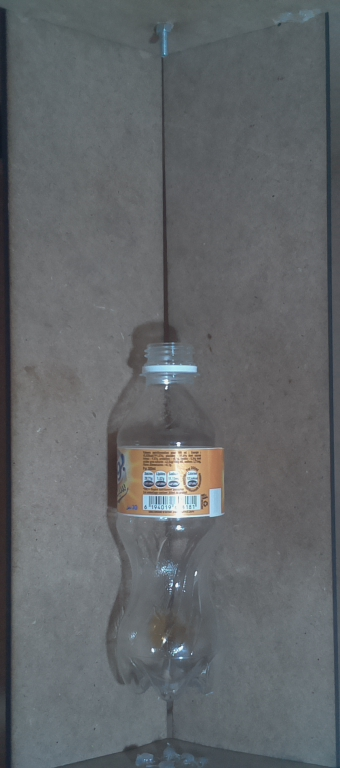Bouteille_0.3L: (98, 333, 238, 706)
